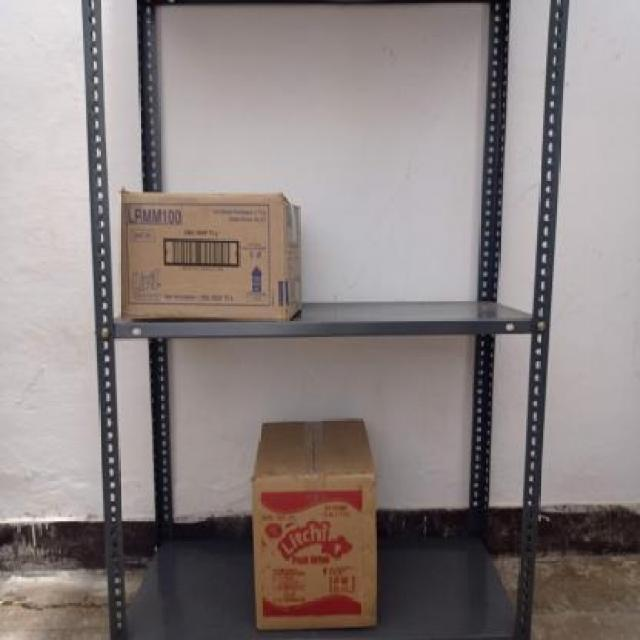box: (119, 193, 288, 319), (254, 473, 377, 633)
